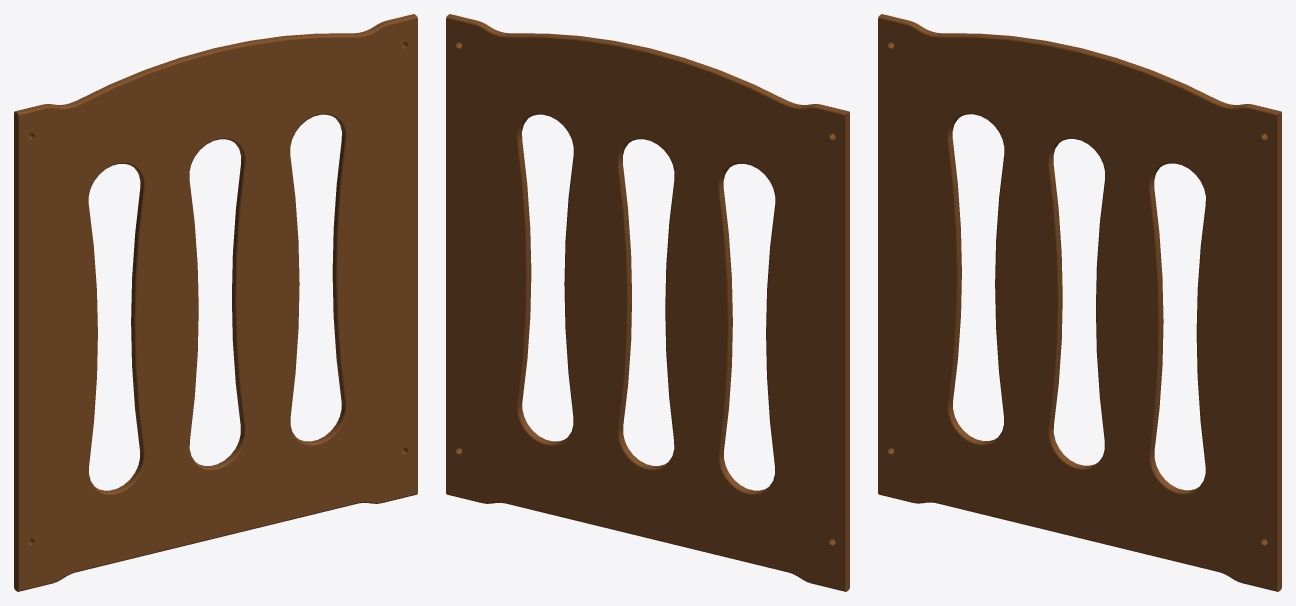
The picture shows the model from 3 angles, left to right: view 1: azimuth 30°, elevation 25°; view 2: azimuth 150°, elevation 25°; view 3: azimuth 330°, elevation 25°; orthographic projection.
Parts seen in each view (by area): view 1: Bryła1; view 2: Bryła1; view 3: Bryła1.
Boxes of the visible parts, x1=… form: Bryła1: x1=14, y1=14, x2=417, y2=591; Bryła1: x1=446, y1=14, x2=849, y2=591; Bryła1: x1=878, y1=14, x2=1281, y2=591.
Bounding box in the file's own units: 0.618 × 0.7294 × 0.012.
